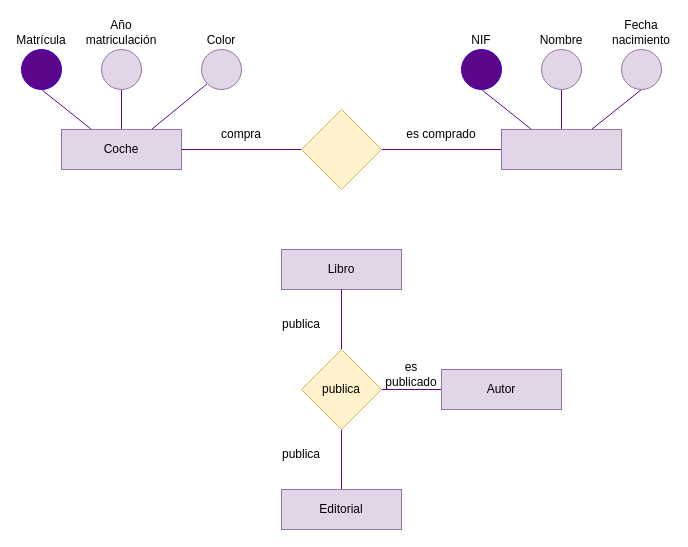
This 688x547 diagram has some shape labels left out. The shapes that lost their labels are listed below. From the top down, each one's box as (x1, y1, x2, y2) in pixels, then its label:
(300, 108, 382, 190): Coche-Cliente
(500, 128, 622, 170): Cliente
